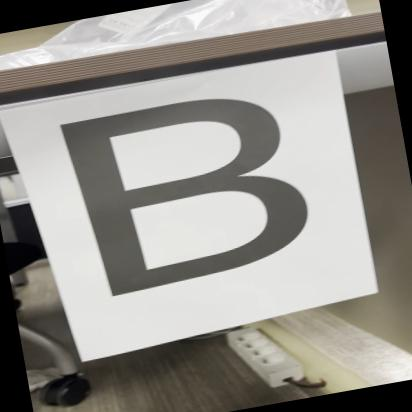seat: (48, 72, 334, 314)
